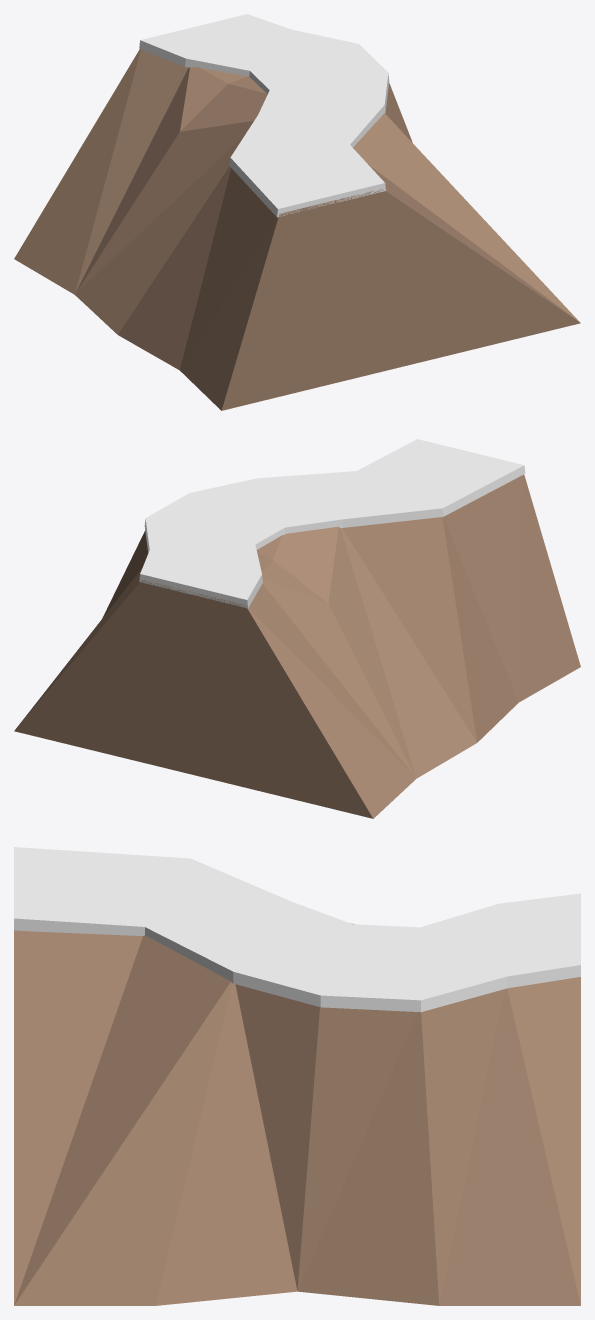
The model's file is West_to_North.fbx.
3 renders of one model, top to bottom at view 1: azimuth 30°, elevation 25°; view 2: azimuth 150°, elevation 25°; view 3: azimuth 270°, elevation 25°, orthographic. The views are drawn at different scales.
Visible parts, largest first — view 1: Path_08; view 2: Path_08; view 3: Path_08.
Part boxes in pixels (x1,y1,x2,y2): Path_08: (14, 14, 580, 410); Path_08: (14, 439, 580, 818); Path_08: (14, 847, 580, 1305).
Size of the model in its own units: 200 by 100 by 200.
1 material, 1 textured.
